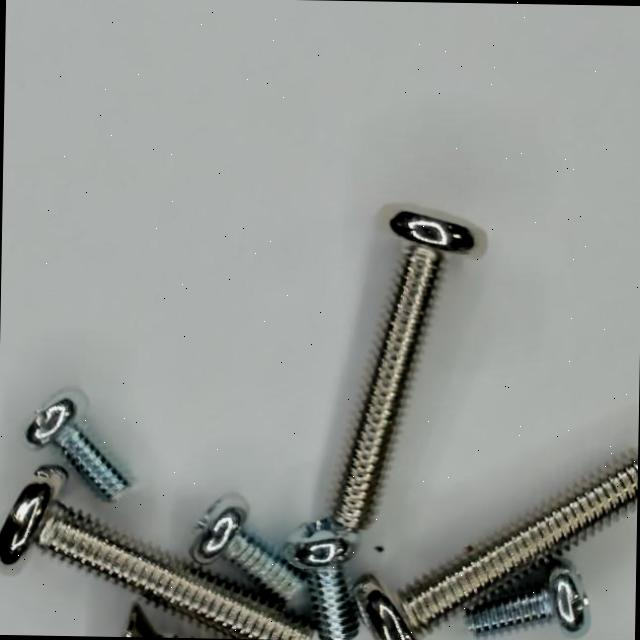Screw: (0, 467, 313, 640), (354, 462, 638, 640), (332, 211, 474, 533), (190, 494, 303, 599), (25, 398, 129, 501), (465, 563, 591, 638), (285, 520, 359, 640)
